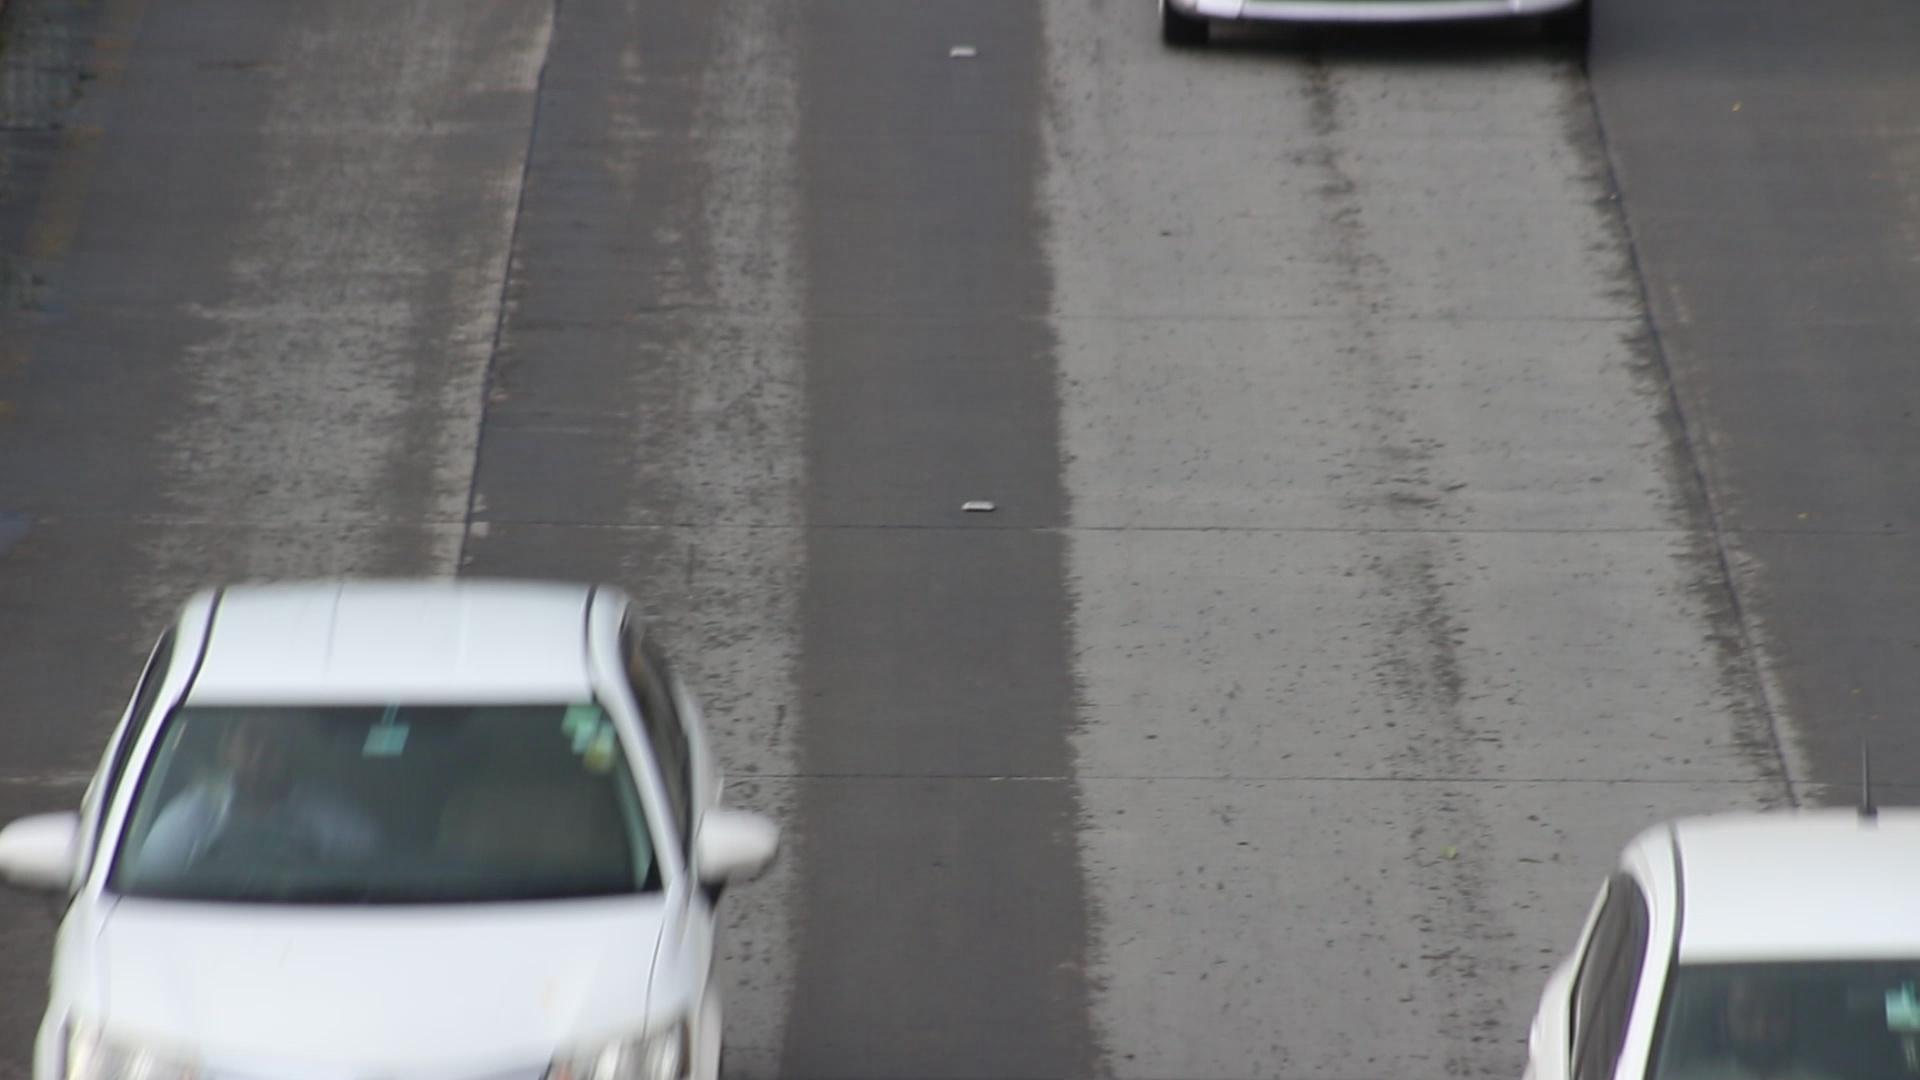windshield: (102, 680, 674, 907)
